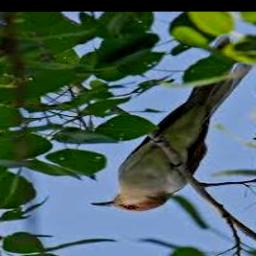Cuckoo: (90, 36, 252, 212)
